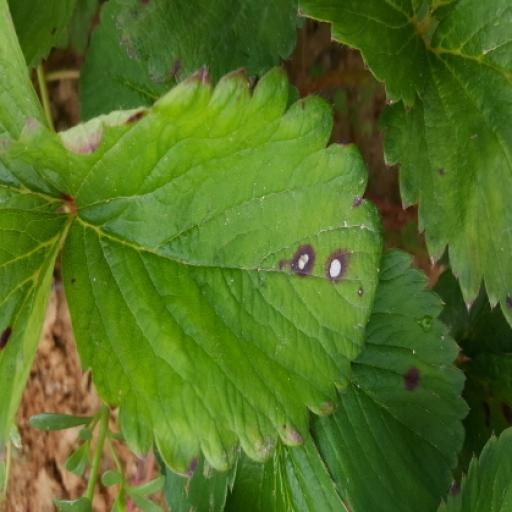Leaf Spot: (61, 61, 385, 478), (375, 0, 511, 325), (310, 248, 471, 511), (0, 184, 74, 500), (111, 0, 300, 93), (2, 108, 151, 197), (5, 0, 99, 70), (436, 426, 511, 511)
